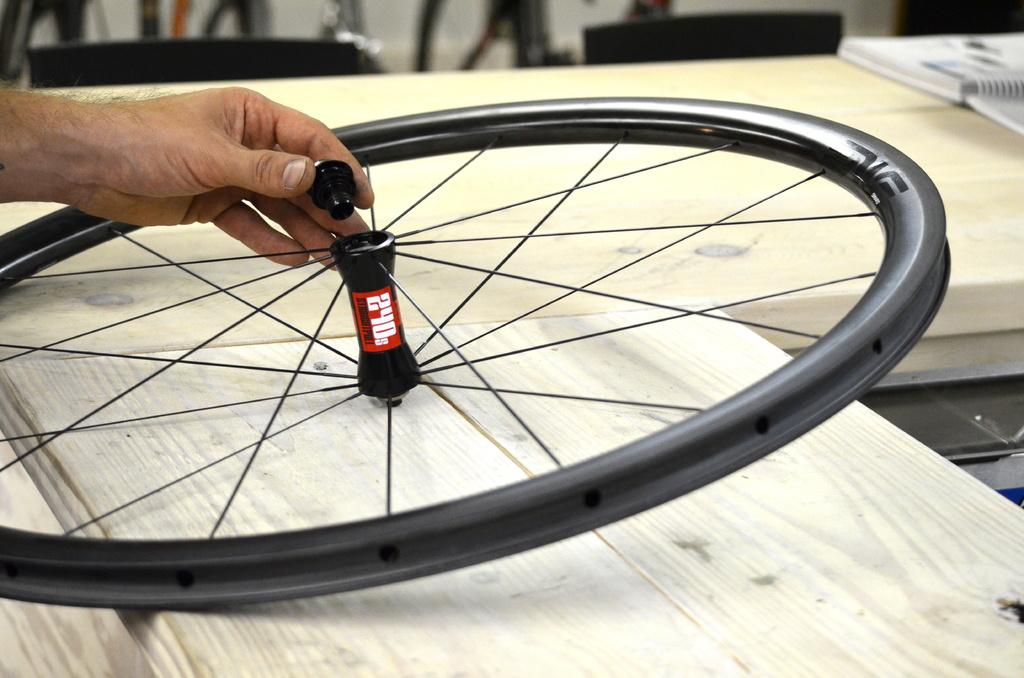Human_hand: (60, 79, 340, 275)
